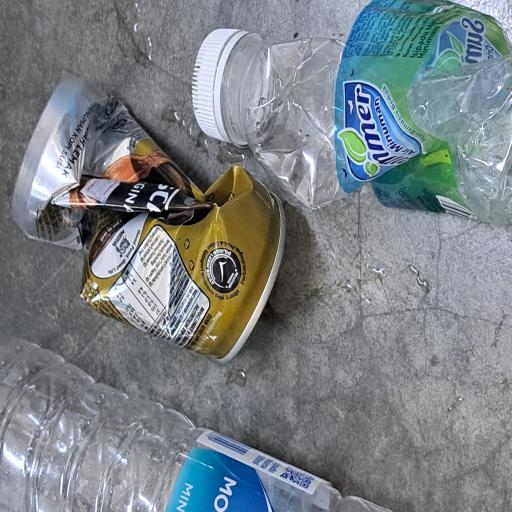can: (108, 15, 326, 385)
plastic bottle: (0, 0, 131, 512), (208, 301, 383, 512)
plastic bottle cap: (274, 256, 364, 335)
